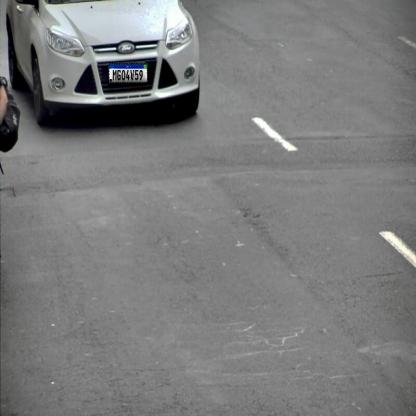PlacaM: (108, 63, 148, 83)
